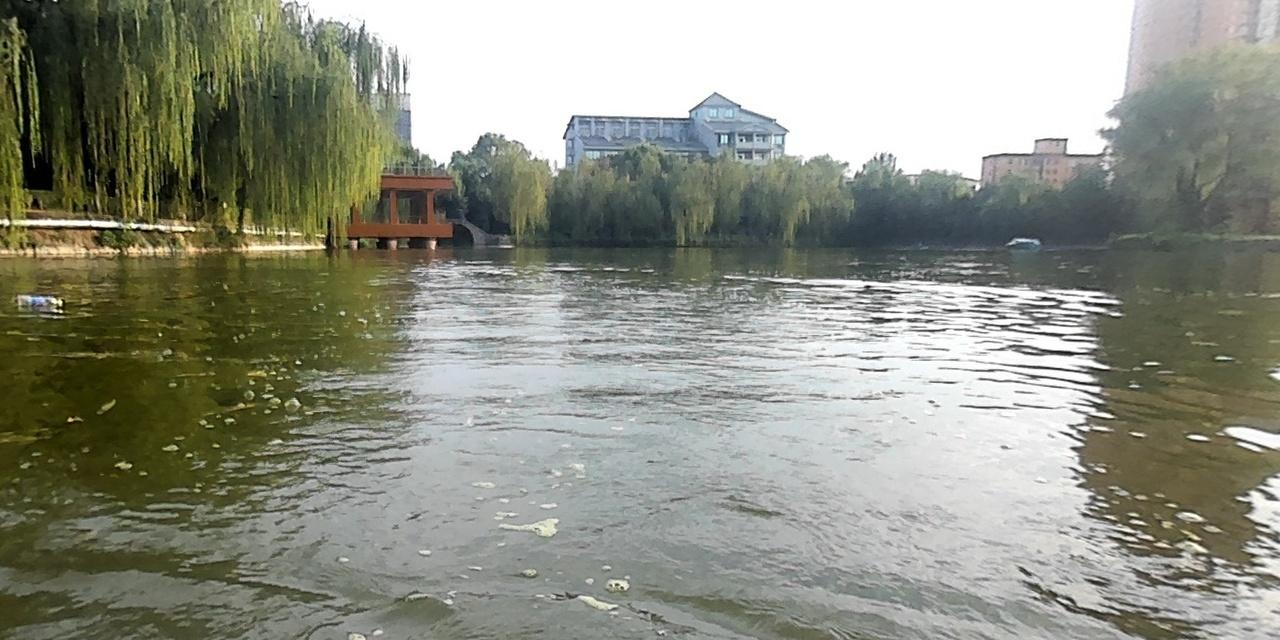bottle: (14, 292, 66, 309)
